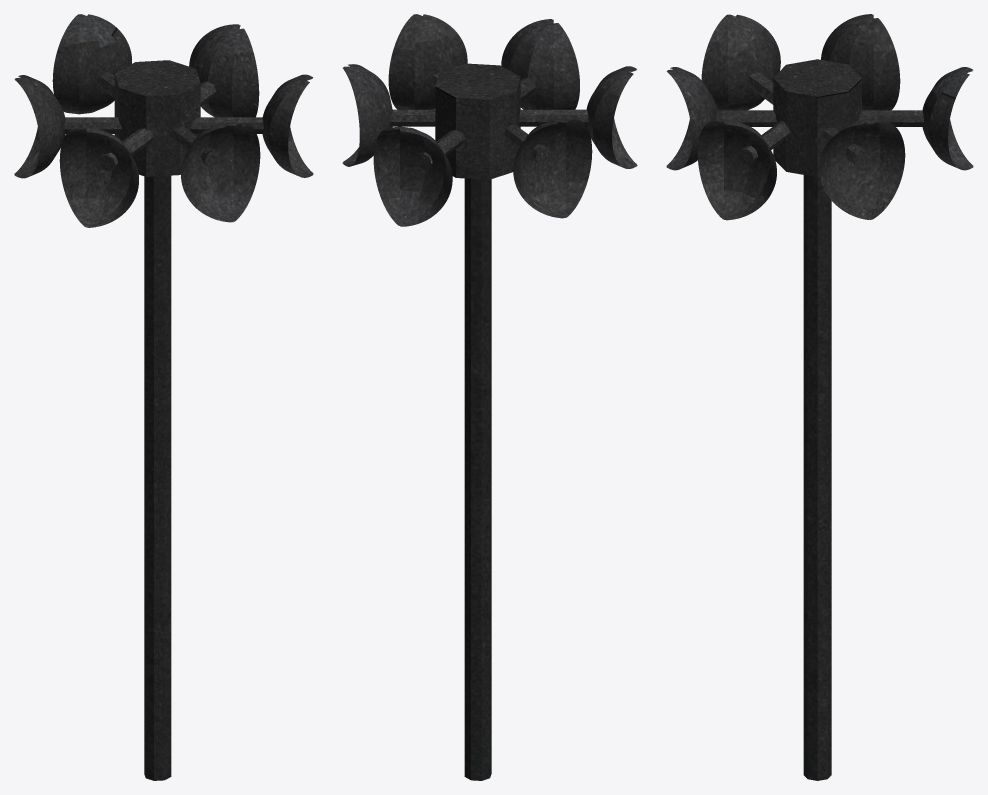
The model's file is anemometro.fbx.
3 renders of one model, left to right at view 1: azimuth 30°, elevation 25°; view 2: azimuth 150°, elevation 25°; view 3: azimuth 270°, elevation 25°, orthographic.
Visible parts, largest first — view 1: Sphere.006; view 2: Sphere.006; view 3: Sphere.006.
Boxes of the visible parts, box(x1,y1,x2,y2) form: Sphere.006: box(14, 14, 313, 780); Sphere.006: box(342, 14, 637, 780); Sphere.006: box(666, 14, 973, 780).
Bounding box in the file's own units: 128 × 380 × 150.
Materials: 1 (1 with a texture image).
